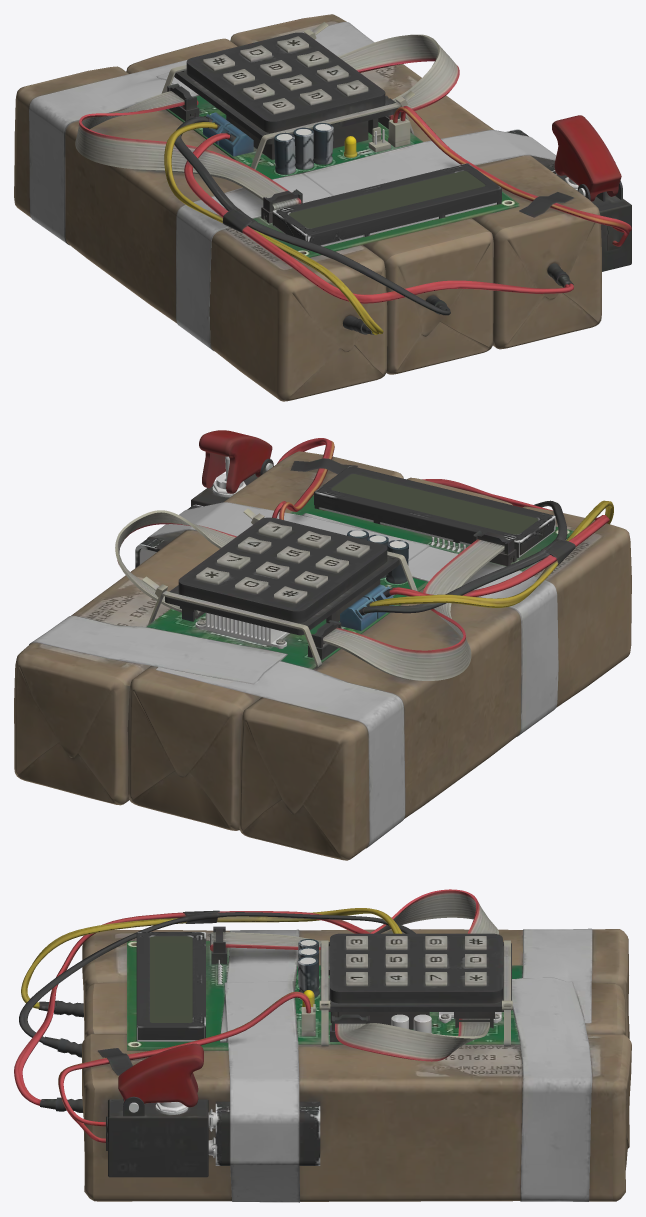
3 views of the same model, one above another, from view 1: azimuth 30°, elevation 25°; view 2: azimuth 150°, elevation 25°; view 3: azimuth 270°, elevation 25° (orthographic). The views are drawn at different scales.
Parts seen in each view (by area): view 1: weapons\models\c4\weapon_c4.vmdl_c.body_hd, weapons\models\c4\weapon_c4.vmdl_c.c4_screen; view 2: weapons\models\c4\weapon_c4.vmdl_c.body_hd, weapons\models\c4\weapon_c4.vmdl_c.c4_screen; view 3: weapons\models\c4\weapon_c4.vmdl_c.body_hd, weapons\models\c4\weapon_c4.vmdl_c.c4_screen.
Part boxes in pixels (<box>): weapons\models\c4\weapon_c4.vmdl_c.body_hd: <box>14,14,631,401</box>; weapons\models\c4\weapon_c4.vmdl_c.c4_screen: <box>289,171,485,228</box>; weapons\models\c4\weapon_c4.vmdl_c.body_hd: <box>14,430,631,860</box>; weapons\models\c4\weapon_c4.vmdl_c.c4_screen: <box>331,474,538,534</box>; weapons\models\c4\weapon_c4.vmdl_c.body_hd: <box>14,889,631,1202</box>; weapons\models\c4\weapon_c4.vmdl_c.c4_screen: <box>150,936,192,1022</box>.
Bounding box in the file's own units: 0.1893 × 0.0832 × 0.2678.
3 materials, 3 textured.
